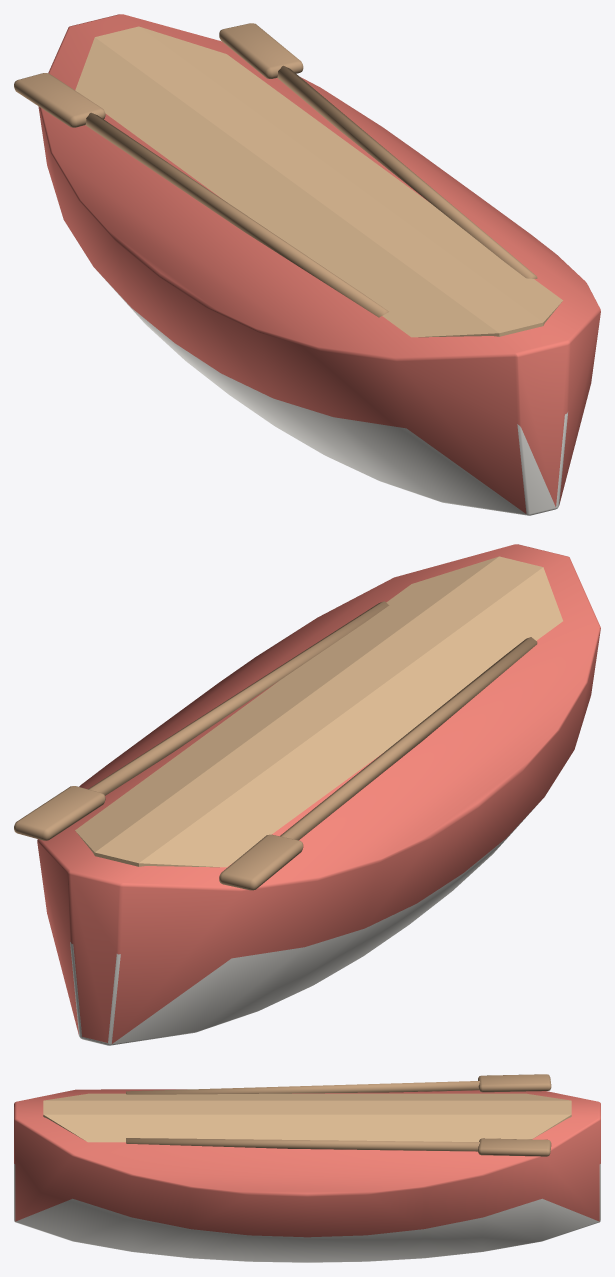
The model's file is rowboat.glb.
The picture shows the model from 3 angles, top to bottom: view 1: azimuth 30°, elevation 25°; view 2: azimuth 150°, elevation 25°; view 3: azimuth 270°, elevation 25°; orthographic projection. The views are drawn at different scales.
Visible parts, largest first — view 1: Hull, Deck, Oar, Oar.001, Blade, Blade.001; view 2: Hull, Deck, Oar, Oar.001, Blade.001, Blade; view 3: Hull, Deck, Oar.001, Oar, Blade.001, Blade.
Part boxes in pixels (left/top/right/bottom): Hull: left=38, top=14, right=600, bottom=515; Deck: left=75, top=26, right=562, bottom=337; Oar: left=85, top=112, right=388, bottom=317; Oar.001: left=277, top=65, right=537, bottom=278; Blade: left=14, top=73, right=105, bottom=127; Blade.001: left=219, top=23, right=303, bottom=78; Hull: left=37, top=544, right=600, bottom=1045; Deck: left=75, top=556, right=562, bottom=867; Oar: left=280, top=637, right=537, bottom=840; Oar.001: left=88, top=601, right=389, bottom=795; Blade.001: left=14, top=786, right=105, bottom=840; Blade: left=219, top=834, right=303, bottom=890; Hull: left=14, top=1089, right=600, bottom=1262; Deck: left=43, top=1093, right=571, bottom=1142; Oar.001: left=126, top=1138, right=479, bottom=1151; Oar: left=126, top=1081, right=479, bottom=1094; Blade.001: left=478, top=1138, right=551, bottom=1156; Blade: left=478, top=1074, right=551, bottom=1092.
Size of the model in its own units: 1.4 by 0.815 by 3.4.
